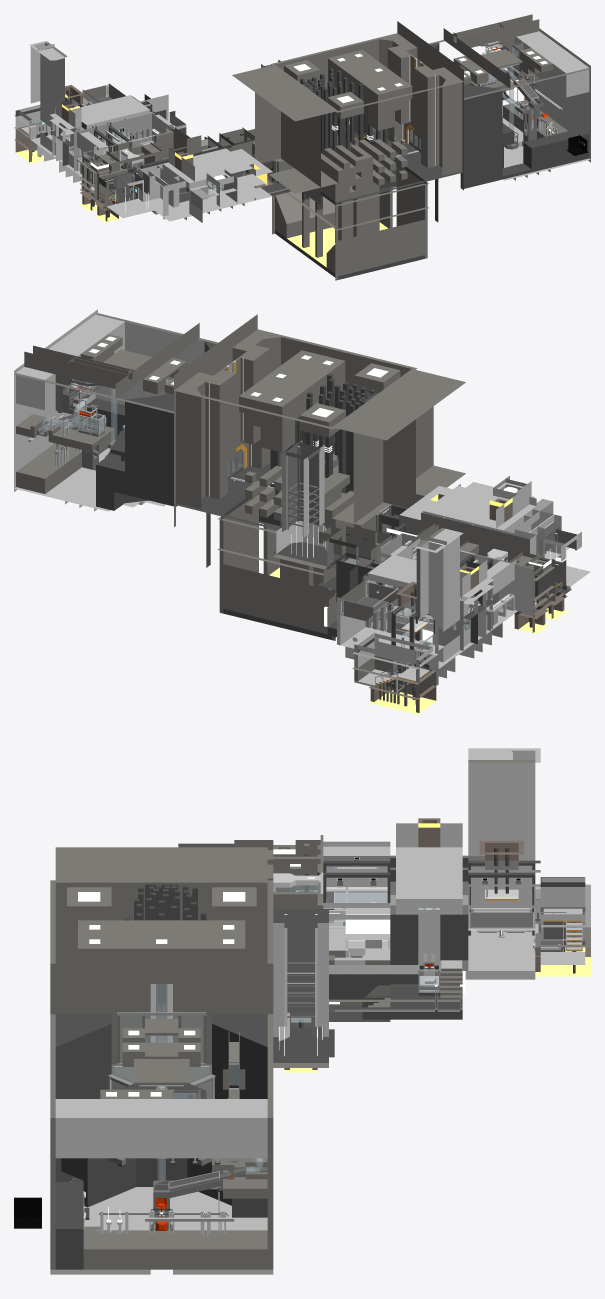
Rendered from map.glb.
The picture shows the model from 3 angles, top to bottom: view 1: azimuth 30°, elevation 25°; view 2: azimuth 150°, elevation 25°; view 3: azimuth 270°, elevation 25°; orthographic projection. The views are drawn at different scales.
Parts seen in each view (by area): view 1: hmw00_world, hmw00_func_detail, hmw00_func_brush, hmw00_doors; view 2: hmw00_world, hmw00_func_detail, hmw00_func_brush, hmw00_doors; view 3: hmw00_world, hmw00_func_detail, hmw00_func_brush.
Boxes of the visible parts, left/top/right/bottom form: hmw00_world: left=14, top=14, right=590, bottom=280; hmw00_func_detail: left=32, top=37, right=586, bottom=257; hmw00_func_brush: left=42, top=41, right=556, bottom=200; hmw00_doors: left=38, top=40, right=518, bottom=159; hmw00_world: left=14, top=309, right=590, bottom=714; hmw00_func_detail: left=16, top=334, right=579, bottom=706; hmw00_func_brush: left=54, top=364, right=560, bottom=685; hmw00_doors: left=71, top=378, right=433, bottom=673; hmw00_world: left=14, top=748, right=590, bottom=1274; hmw00_func_detail: left=17, top=818, right=585, bottom=1237; hmw00_func_brush: left=84, top=885, right=562, bottom=1230.
Bounding box in the file's own units: 90.83 × 36.58 × 63.09.
